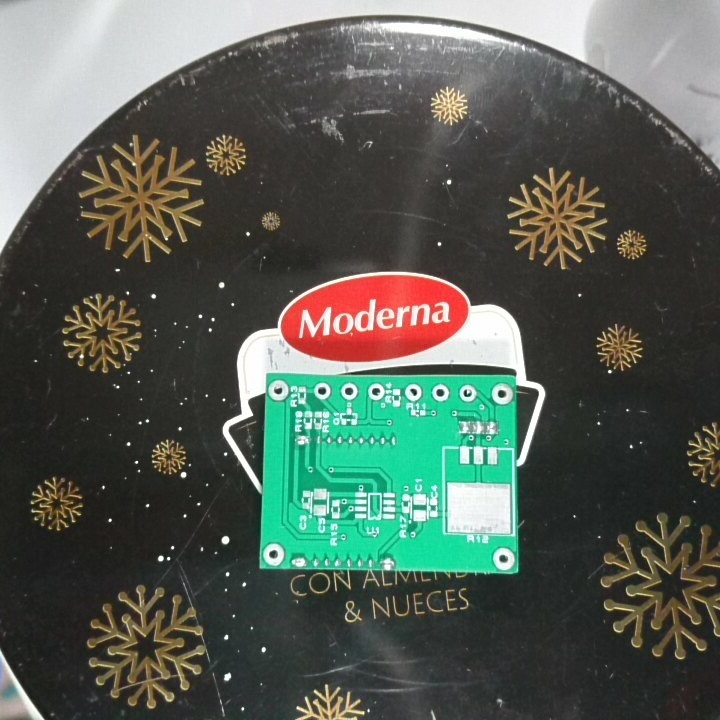F: (491, 544, 517, 573), (262, 540, 286, 568), (268, 377, 291, 404), (489, 382, 514, 406), (402, 380, 424, 403), (429, 381, 451, 403), (457, 382, 478, 403), (311, 379, 331, 401), (367, 380, 386, 403), (339, 380, 359, 401)
P: (379, 553, 399, 572), (291, 433, 310, 449), (289, 554, 309, 568)
